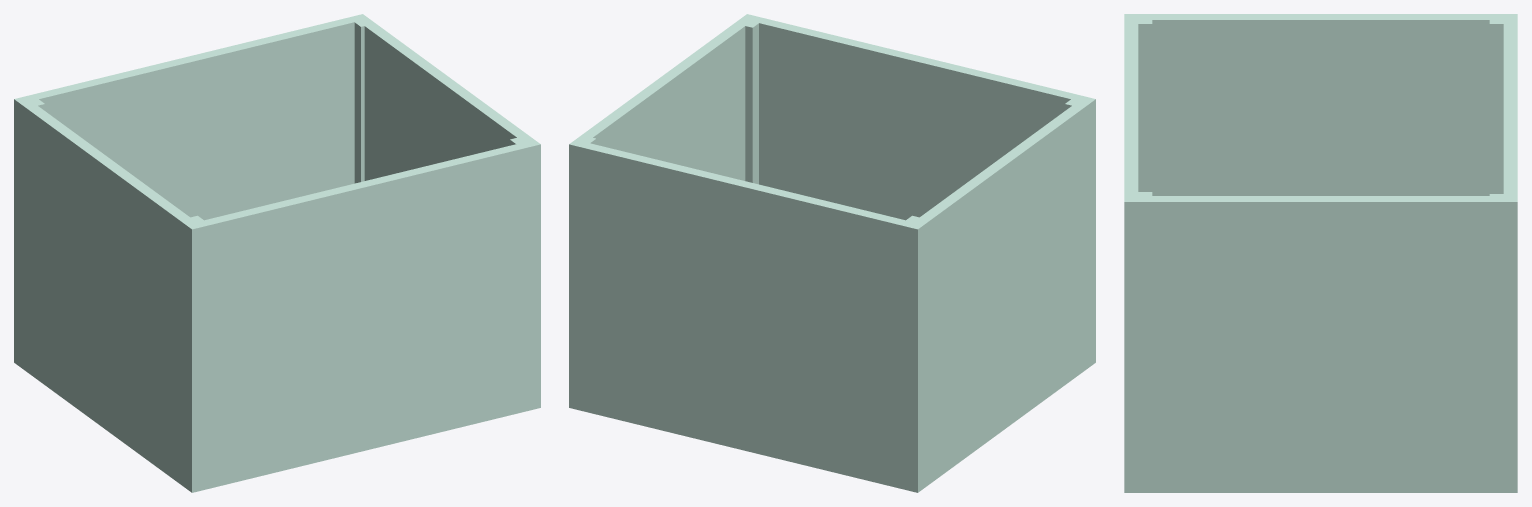
3 renders of one model, left to right at view 1: azimuth 30°, elevation 25°; view 2: azimuth 150°, elevation 25°; view 3: azimuth 270°, elevation 25°, orthographic. The views are drawn at different scales.
Parts seen in each view (by area): view 1: Renderer Node; view 2: Renderer Node; view 3: Renderer Node.
Part boxes in pixels (x1,y1,x2,y2): Renderer Node: (14, 14, 540, 492); Renderer Node: (569, 14, 1095, 492); Renderer Node: (1124, 14, 1517, 492).
Size of the model in its own units: 1.04 by 0.75 by 0.9187.
